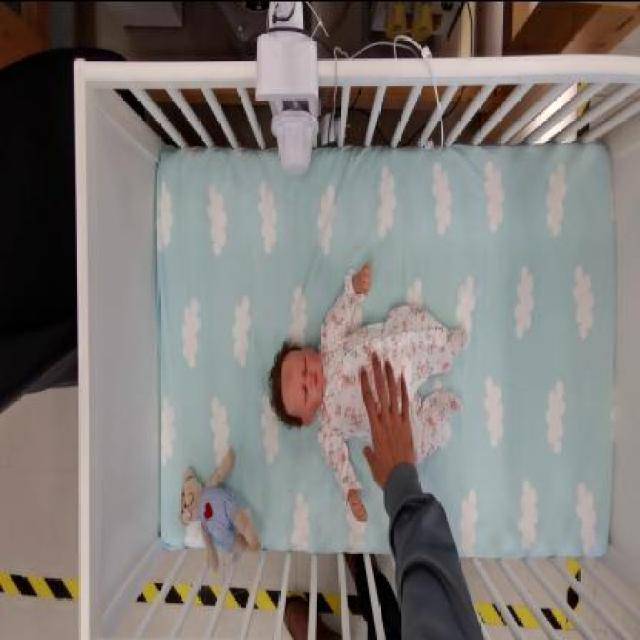baby: (270, 262, 470, 524)
